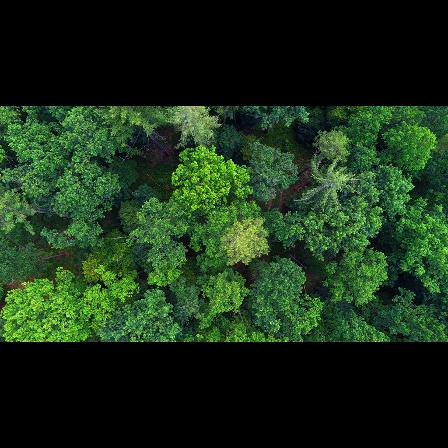Dead: (122, 121, 177, 162)
Sick: (308, 154, 351, 209)
